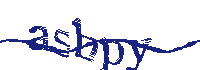a: (26, 22, 50, 53)
b: (72, 18, 98, 64)
p: (100, 36, 125, 70)
s: (53, 27, 72, 59)
y: (124, 37, 153, 70)
